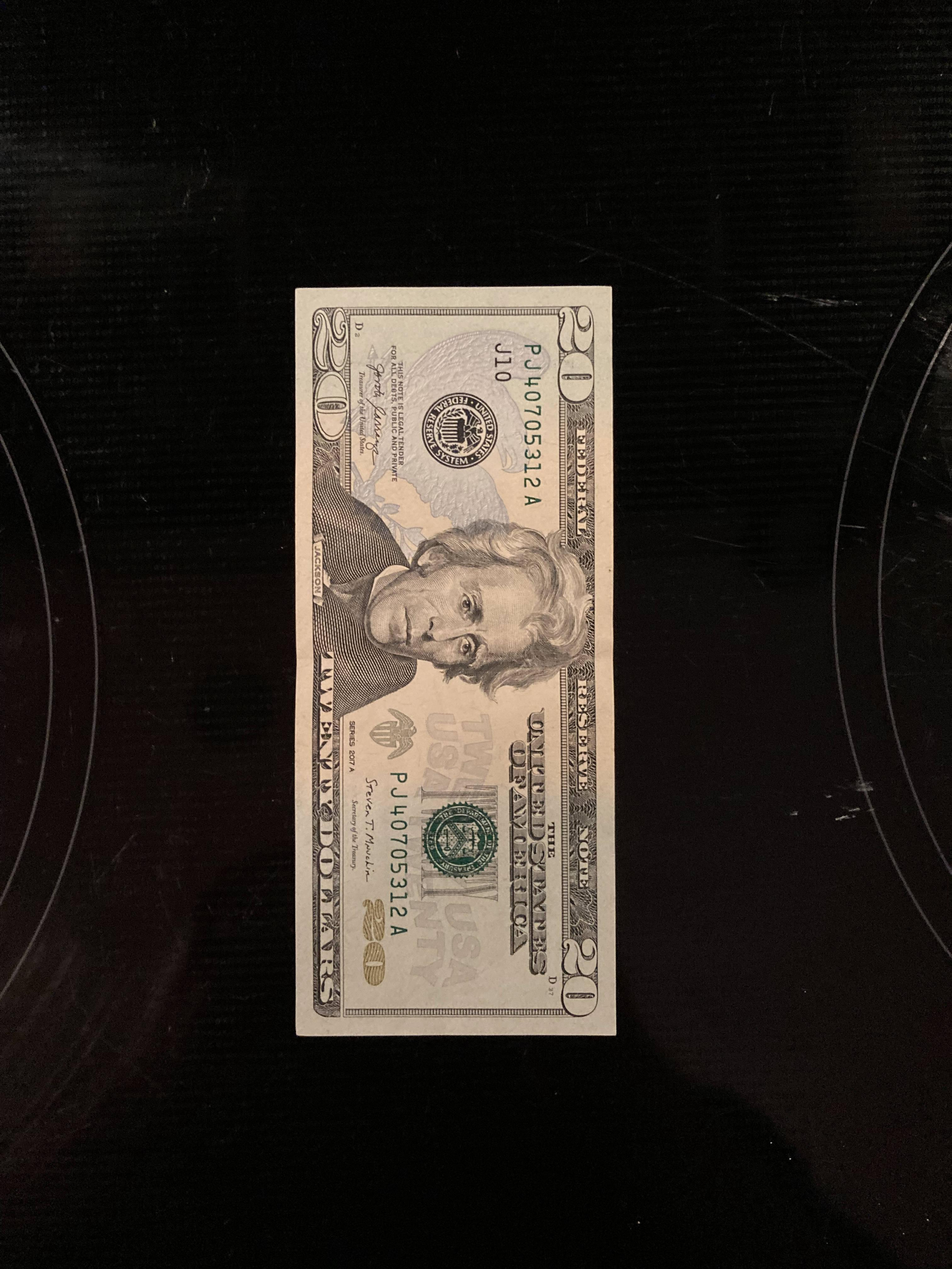twenty-front: (292, 282, 617, 1040)
